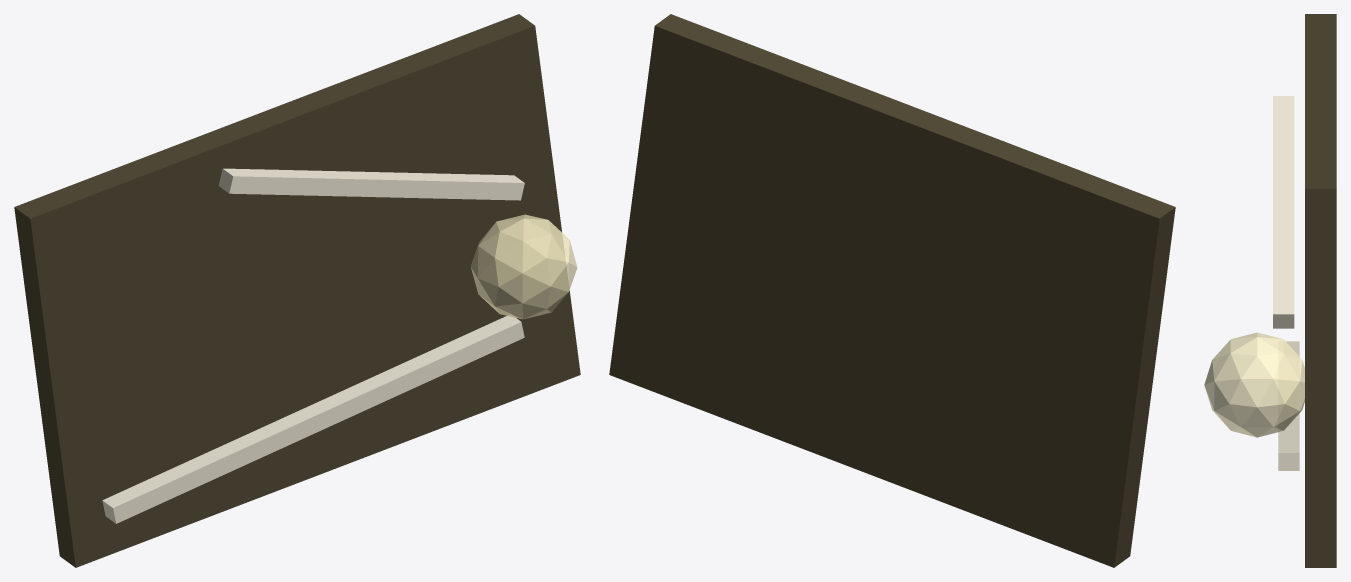
Rendered from 02_world_prop_polish.glb.
3 renders of one model, left to right at view 1: azimuth 30°, elevation 25°; view 2: azimuth 150°, elevation 25°; view 3: azimuth 270°, elevation 25°, orthographic.
Parts seen in each view (by area): view 1: object_overlay_plate, edge_wear_a, glow_socket, edge_wear_b; view 2: object_overlay_plate; view 3: object_overlay_plate, glow_socket, edge_wear_b, edge_wear_a.
Part boxes in pixels (box(x1,y1,x2,y2)): object_overlay_plate: box(14, 14, 580, 567); edge_wear_a: box(102, 315, 524, 523); glow_socket: box(470, 214, 577, 319); edge_wear_b: box(218, 168, 524, 200); object_overlay_plate: box(609, 14, 1175, 567); object_overlay_plate: box(1305, 14, 1336, 567); glow_socket: box(1204, 332, 1304, 437); edge_wear_b: box(1273, 96, 1294, 328); edge_wear_a: box(1278, 341, 1299, 470).
Bounding box in the file's own units: 1.19 × 0.8877 × 0.25.
